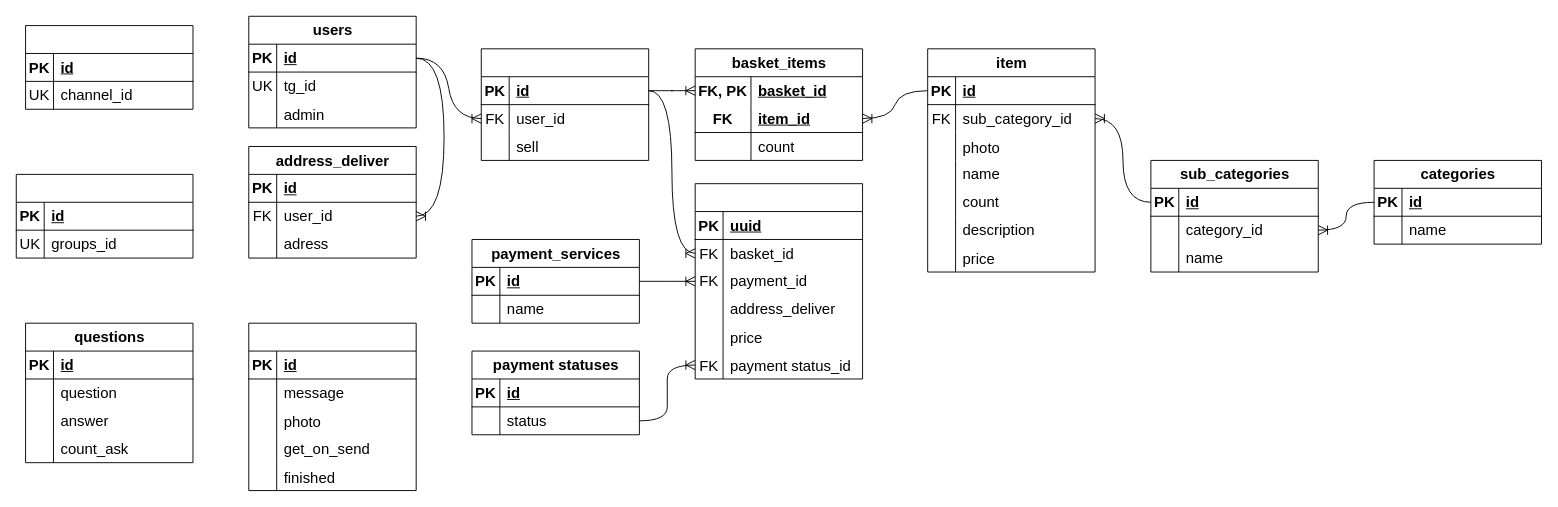
The diagram is 1558 pixels wide and 507 high, and some of its shapes have lost their labels. Here are the shapes that lost their labels. From the top down, the box of each, then its label:
(25, 25, 193, 109): check_channels
(480, 48, 649, 160): baskets
(15, 173, 193, 258): check_groups
(694, 183, 863, 379): orders
(248, 322, 416, 491): mailings
